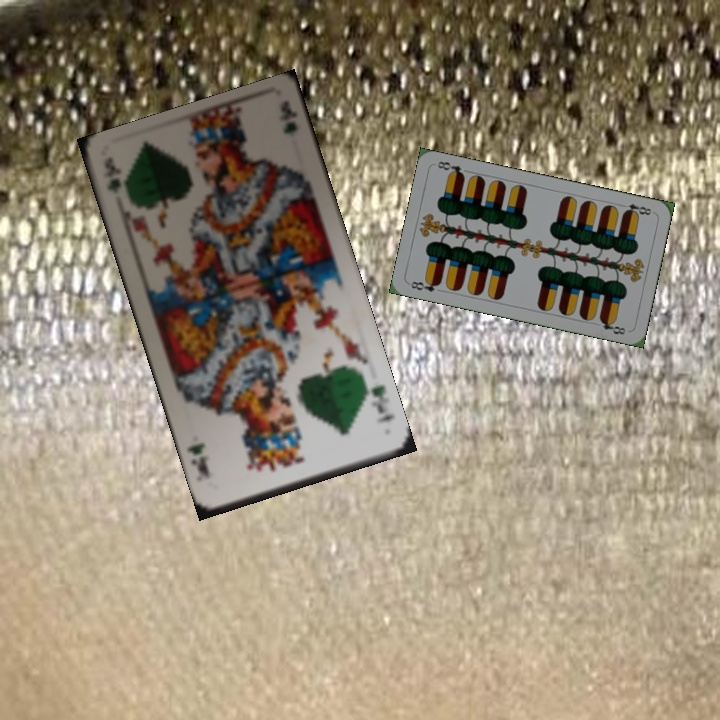E8: (616, 199, 654, 219), (407, 275, 443, 294)
GK: (359, 377, 397, 426), (101, 154, 123, 195)
